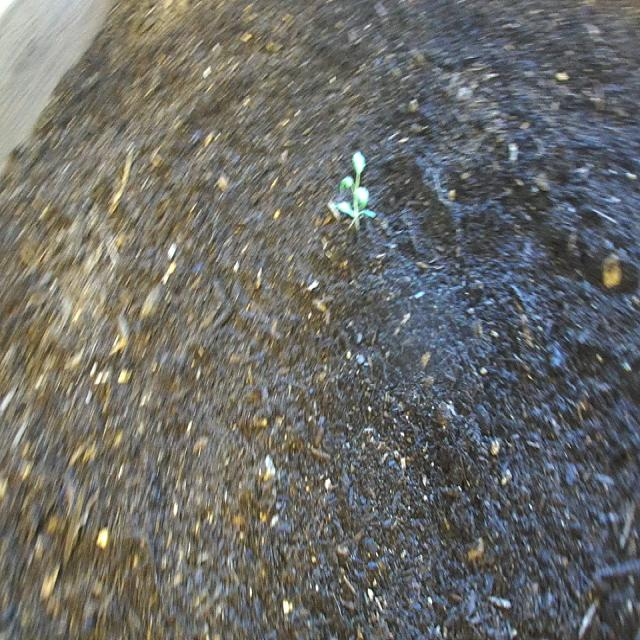Healthy: (323, 135, 388, 253)
